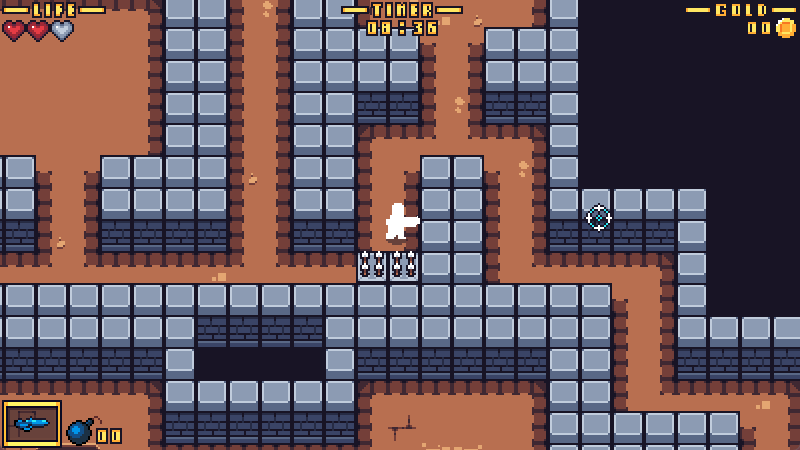aim: (586, 204, 612, 231)
bomb_counter_0: (66, 415, 123, 450)
gold_counter: (686, 1, 798, 38)
health-2: (1, 19, 76, 42)
player_hit: (383, 200, 421, 241)
timer: (342, 1, 463, 37)
trap_on: (356, 252, 421, 285)
